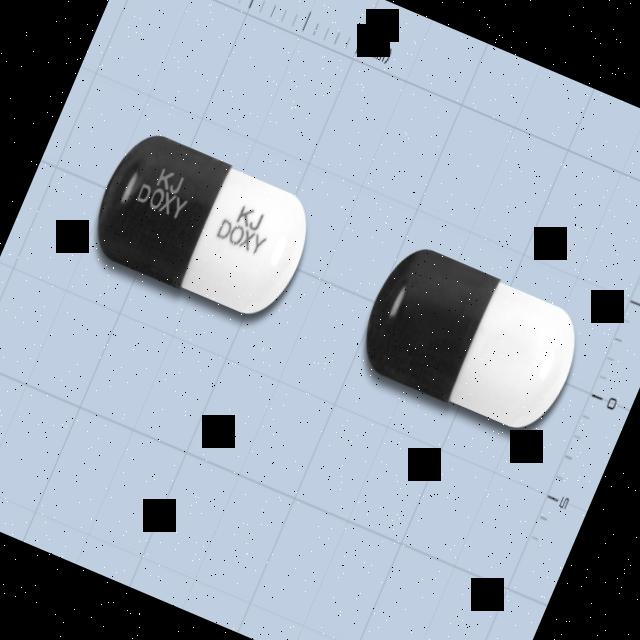Doxycycline Hyclate Cap: (80, 124, 324, 330)
